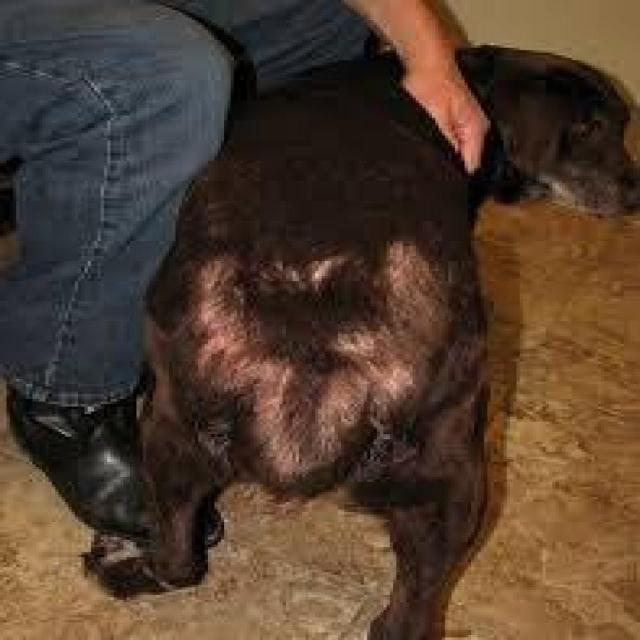allergic dermatitis: (197, 250, 453, 463)
